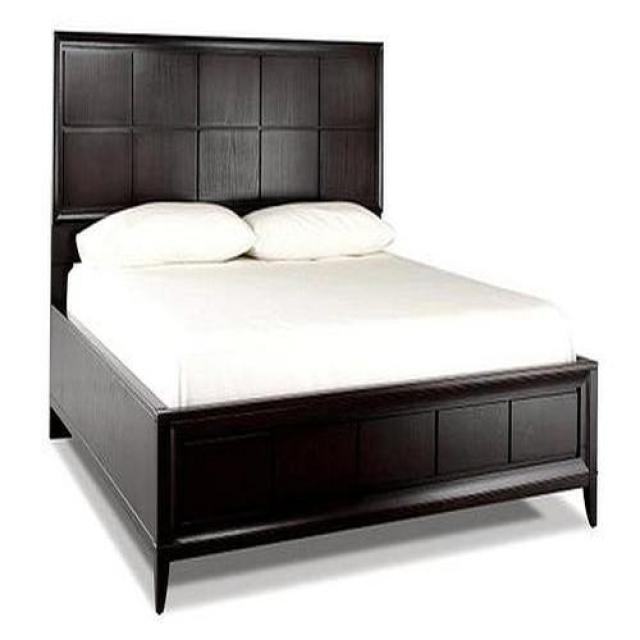bed: (50, 36, 600, 616)
